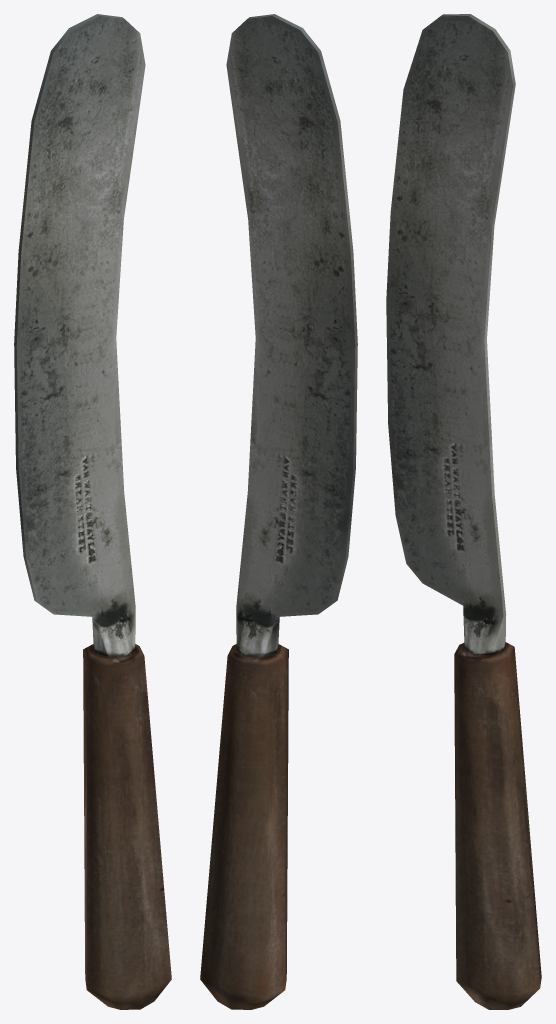
File: SM_PRP_Knife_Misc_02_A.fbx
The picture shows the model from 3 angles, left to right: view 1: azimuth 30°, elevation 25°; view 2: azimuth 150°, elevation 25°; view 3: azimuth 330°, elevation 25°; orthographic projection.
Parts seen in each view (by area): view 1: SM_PRP_Knife_Misc_02_A; view 2: SM_PRP_Knife_Misc_02_A; view 3: SM_PRP_Knife_Misc_02_A.
Boxes of the visible parts, bbox=[...] form: SM_PRP_Knife_Misc_02_A: bbox=[14, 14, 171, 1009]; SM_PRP_Knife_Misc_02_A: bbox=[200, 14, 357, 1009]; SM_PRP_Knife_Misc_02_A: bbox=[386, 14, 541, 1009].
Bounding box in the file's own units: 3.77 × 23.16 × 1.35.
